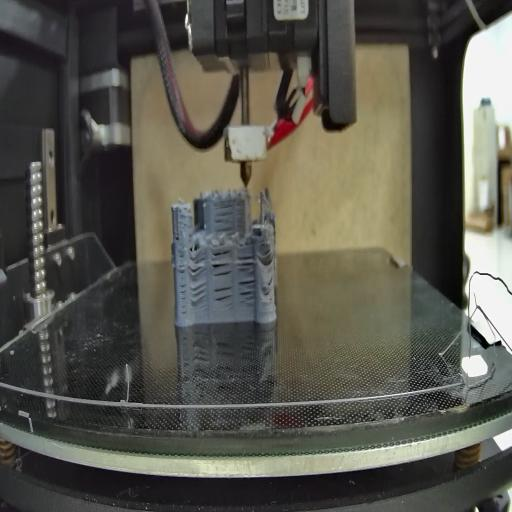cracks: (177, 252, 189, 318), (211, 202, 237, 231), (212, 249, 234, 280), (214, 282, 236, 312), (238, 274, 256, 306), (189, 250, 206, 280), (191, 280, 208, 310), (238, 253, 255, 275), (262, 245, 273, 267), (264, 273, 274, 290), (174, 230, 184, 242)
